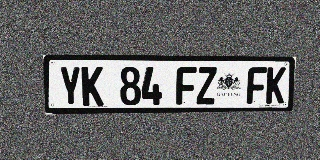4: (142, 67, 162, 105)
8: (120, 66, 141, 105)
F: (176, 67, 197, 105), (247, 67, 267, 104)
K: (81, 66, 104, 106), (266, 67, 286, 104)
Y: (59, 66, 82, 106)
Z: (196, 67, 217, 104)
